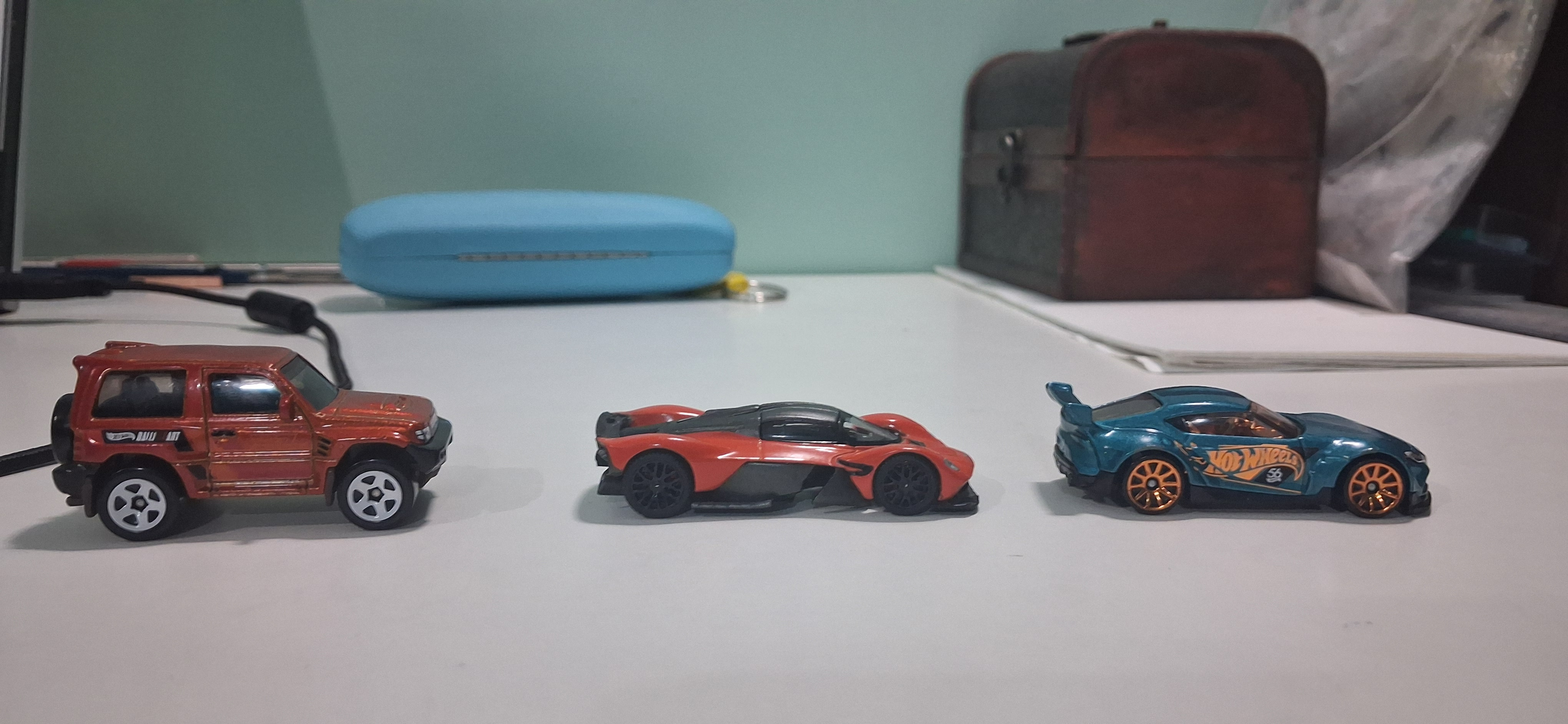Aston_Martin_Valkyrie: (563, 358, 1005, 562)
Mitsubishi_Pajero_Evolution: (30, 309, 516, 590)
Toyota_GR_Supra: (1034, 357, 1453, 562)
